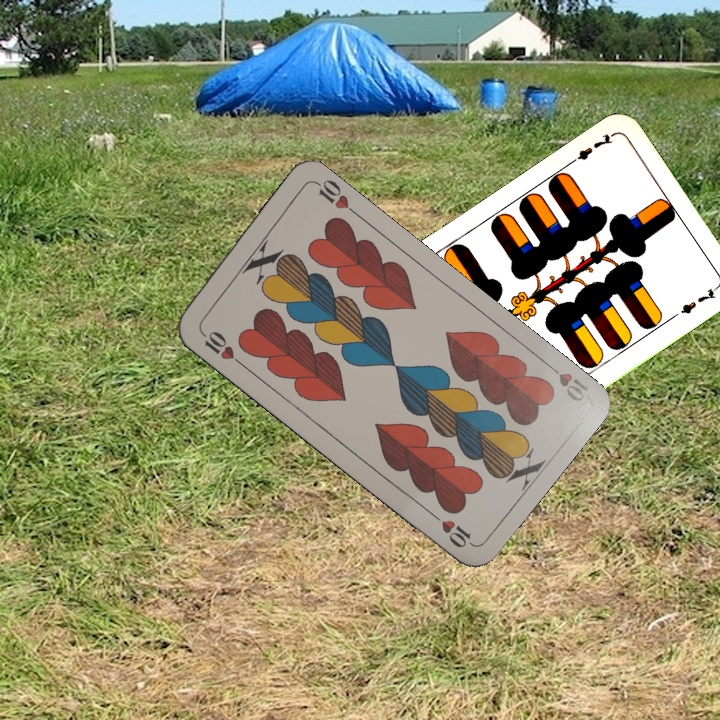E7: (563, 129, 616, 169)
H10: (541, 357, 591, 406), (195, 325, 245, 368)
